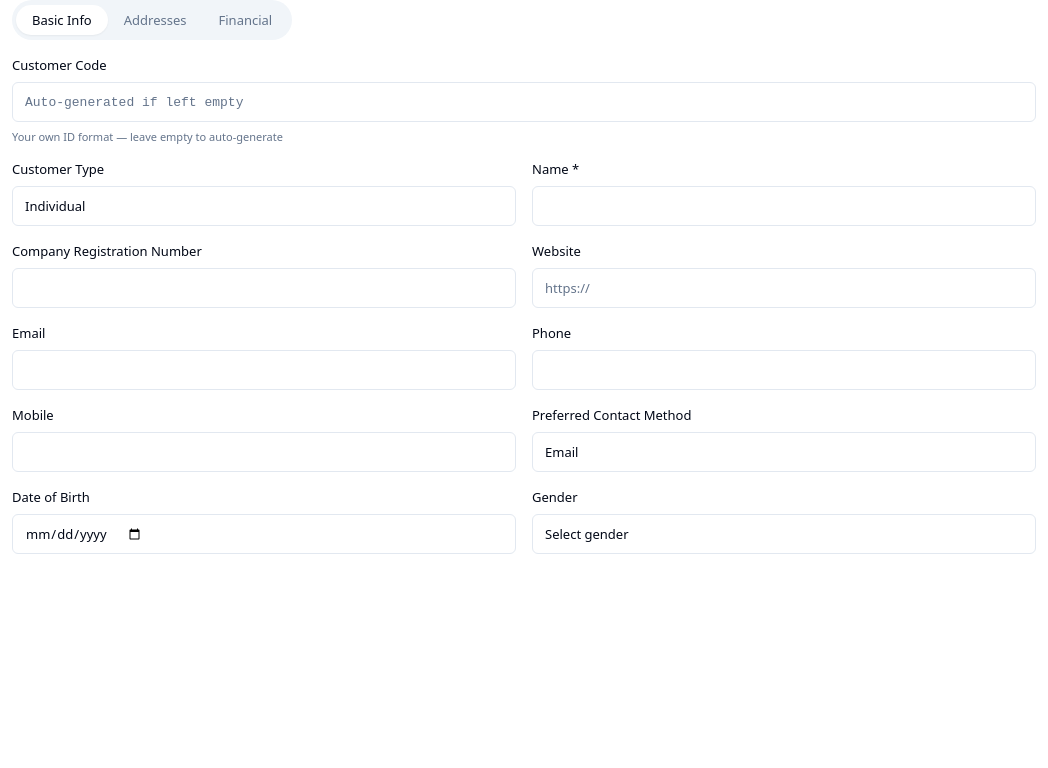
Test: CustomerForm (#437 CU9) › renders credit limit, payment terms and notes on the Financial tab
The image size is (1048, 768).
Press the mouse on the tab "Financial" at (245, 20), box [202, 5, 288, 35]
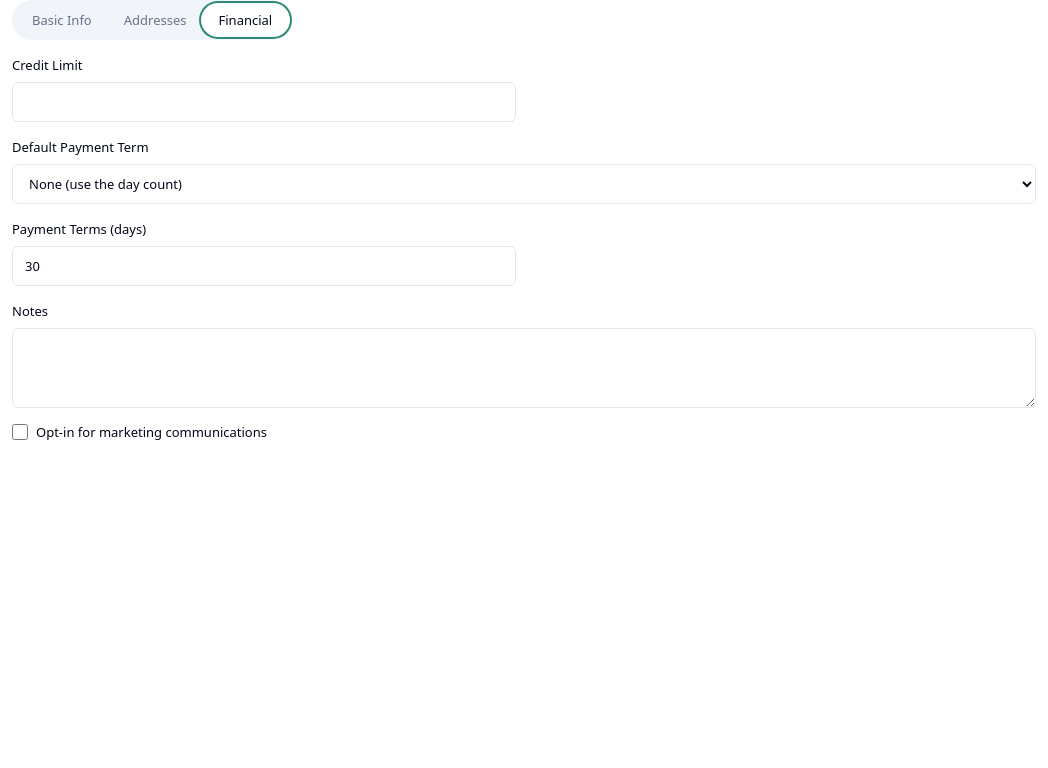
Now the number field labelled "Credit Limit" is shown, box [12, 82, 516, 122]
Now the number field labelled "Payment Terms (days)" is shown, box [12, 246, 516, 286]
Now the text box labelled "Notes" is shown, box [12, 328, 1036, 408]
